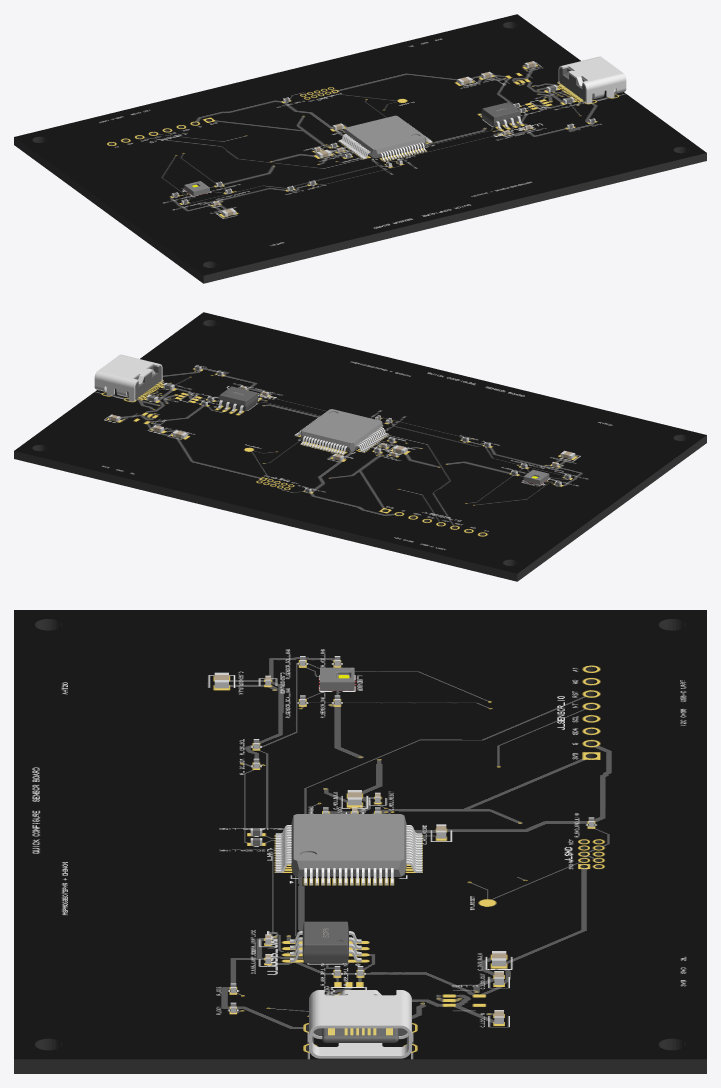
3 views of the same model, one above another, from view 1: azimuth 30°, elevation 25°; view 2: azimuth 150°, elevation 25°; view 3: azimuth 270°, elevation 25° (orthographic). The views are drawn at different scales.
Parts seen in each view (by area): view 1: Box0, U_MAIN, J_USB, U_USB_UART; view 2: Box0, U_MAIN, J_USB, U_USB_UART; view 3: Box0, U_MAIN, J_USB, U_USB_UART, U_SENSOR.
Boxes of the visible parts, x1,y1,x2,y2 form: Box0: (14, 14, 706, 283); U_MAIN: (338, 115, 432, 161); J_USB: (558, 56, 626, 103); U_USB_UART: (480, 102, 522, 129); Box0: (14, 312, 706, 581); U_MAIN: (294, 409, 388, 454); J_USB: (94, 354, 162, 401); U_USB_UART: (217, 386, 259, 413); Box0: (14, 610, 706, 1073); U_MAIN: (275, 814, 422, 885); J_USB: (309, 990, 411, 1058); U_USB_UART: (290, 921, 361, 963); U_SENSOR: (320, 667, 354, 690).
Bounding box in the file's own units: 92.04 × 4.65 × 60.
Materials: 20 (2 with a texture image).
